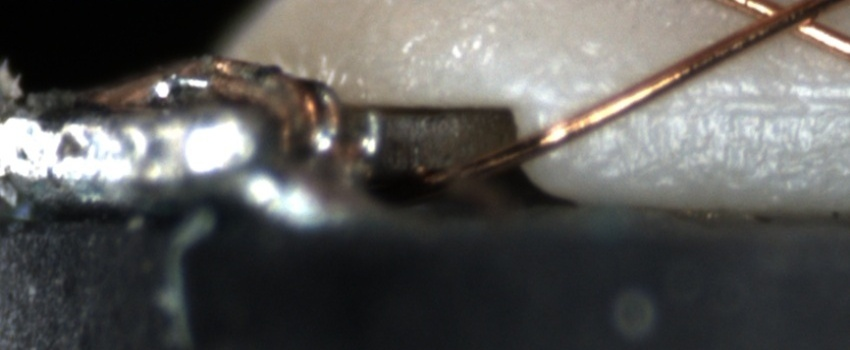CL: (738, 1, 846, 45)
DL: (657, 68, 849, 134)
TE: (198, 50, 351, 160)
